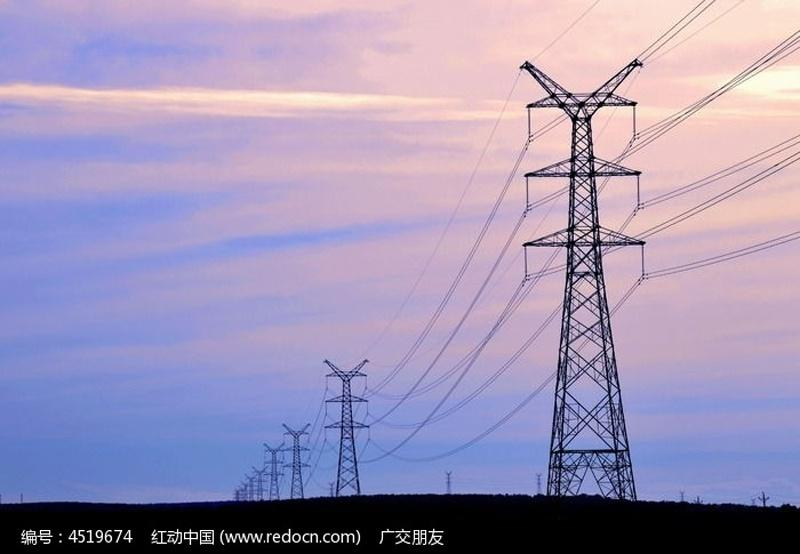power_tower: (506, 54, 658, 490), (326, 358, 371, 494)
